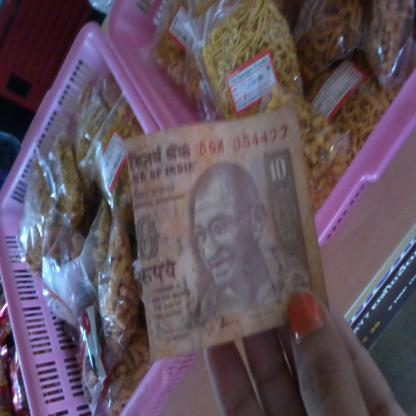Old10Front: (126, 107, 327, 360)
